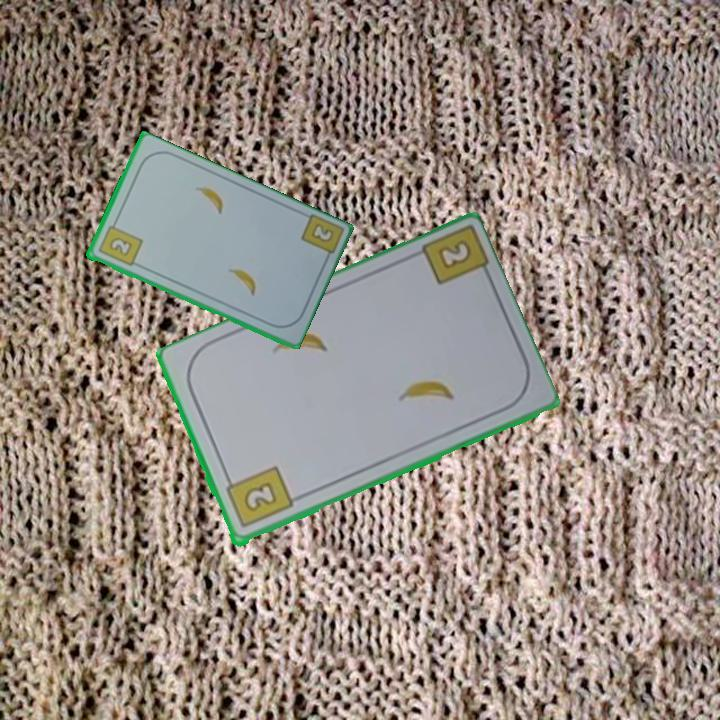2b: (222, 463, 296, 531), (94, 217, 145, 269), (297, 211, 344, 266), (437, 240, 471, 269)
